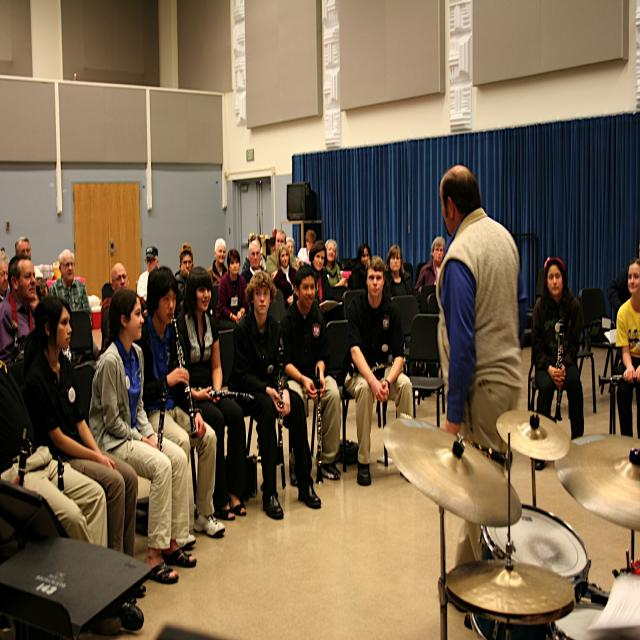clarinet: (171, 315, 200, 440), (194, 383, 257, 405), (277, 335, 286, 469), (154, 382, 169, 452), (315, 364, 323, 486), (12, 429, 28, 489), (370, 356, 422, 372), (556, 322, 563, 421), (599, 373, 640, 387), (52, 457, 68, 490)
